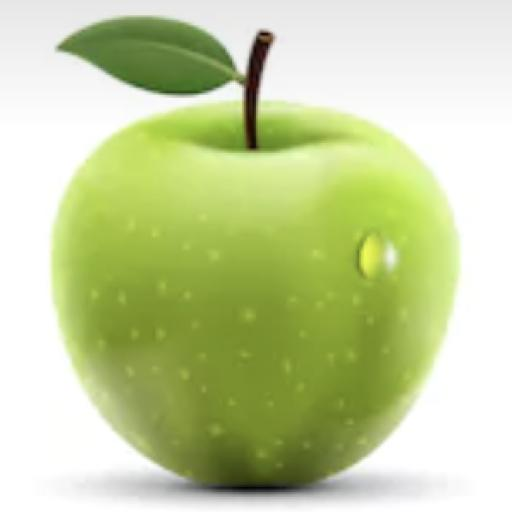apple: (52, 102, 458, 487)
